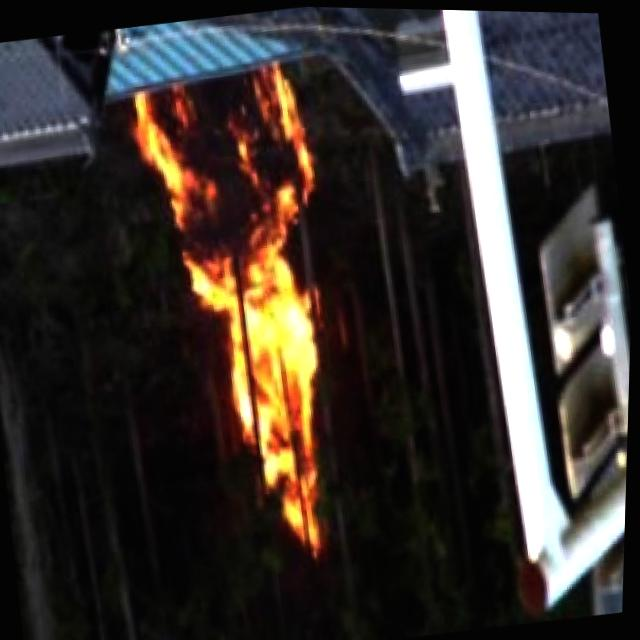helmet: (117, 52, 376, 569)
